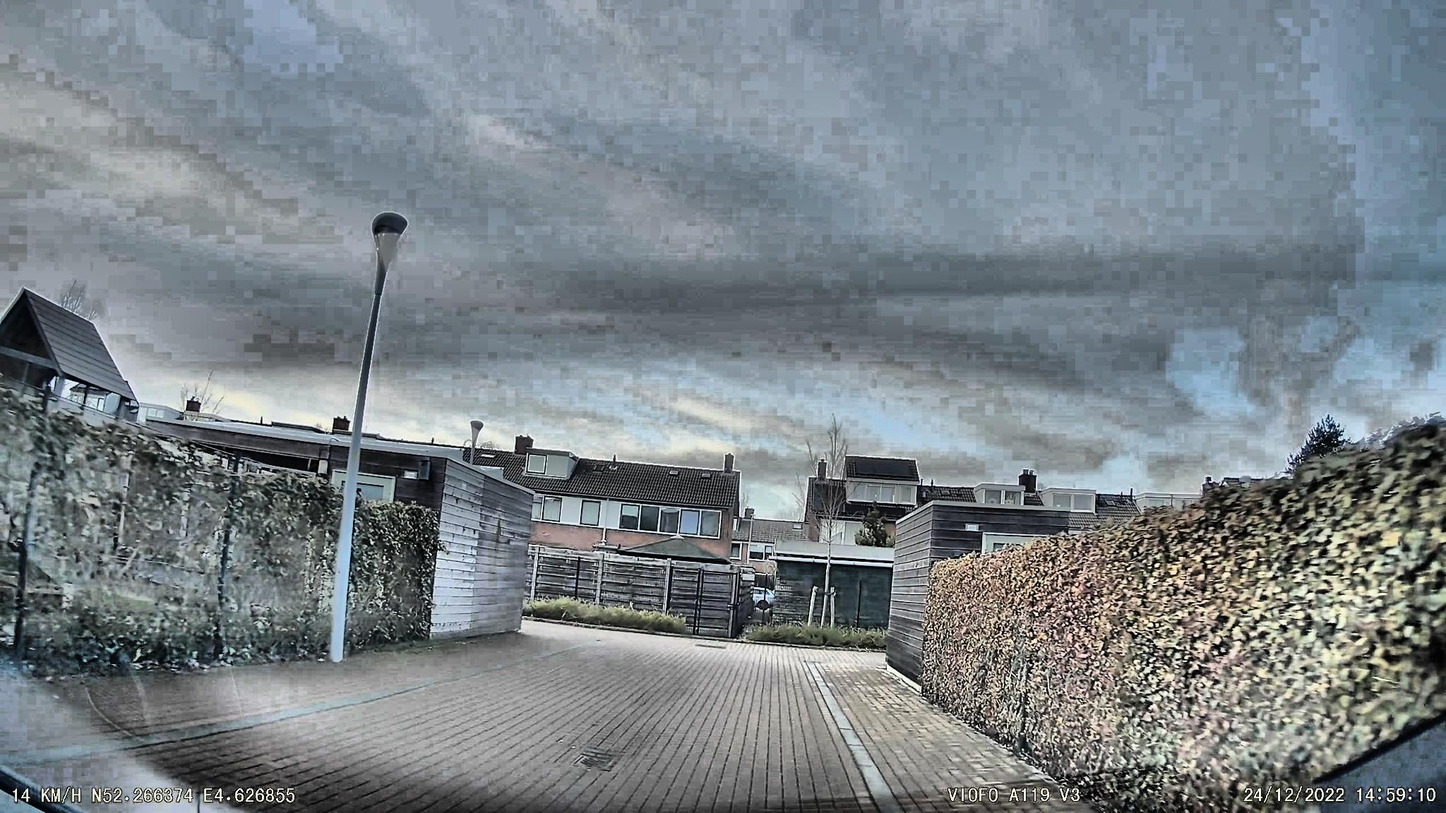Roads: (0, 626, 1122, 813)
